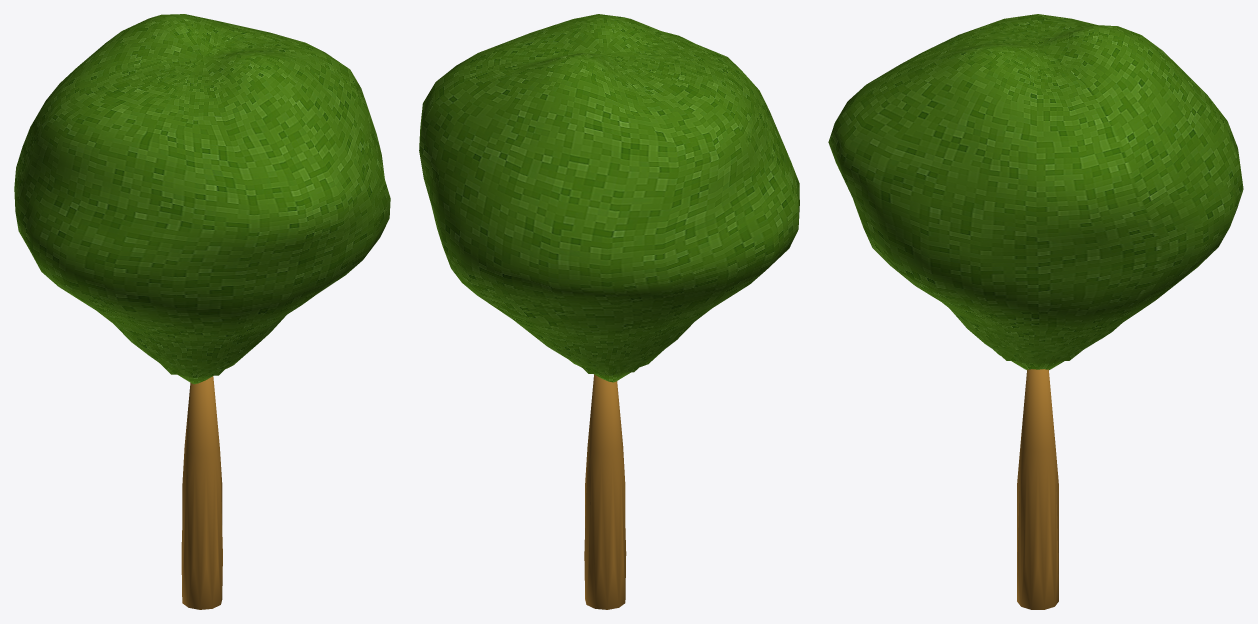
File: Tree.fbx
The picture shows the model from 3 angles, left to right: view 1: azimuth 30°, elevation 25°; view 2: azimuth 150°, elevation 25°; view 3: azimuth 270°, elevation 25°; orthographic projection. The views are drawn at different scales.
Parts seen in each view (by area): view 1: polySurface10, polySurface11; view 2: polySurface10, polySurface11; view 3: polySurface10, polySurface11.
Part boxes in pixels (left/top/right/bottom): polySurface10: left=14, top=14, right=390, bottom=384; polySurface11: left=181, top=376, right=222, bottom=609; polySurface10: left=419, top=14, right=799, bottom=382; polySurface11: left=584, top=374, right=626, bottom=609; polySurface10: left=828, top=14, right=1243, bottom=369; polySurface11: left=1017, top=369, right=1058, bottom=609.
Size of the model in its own units: 9.11 by 14.78 by 9.7.
Materials: 2 (1 with a texture image).
